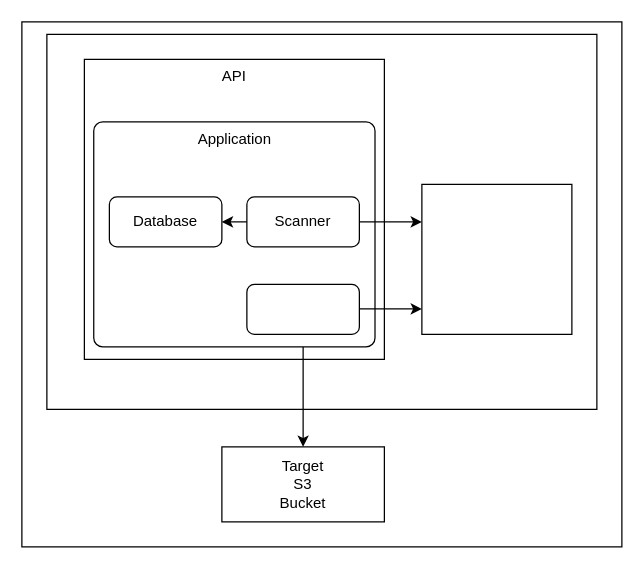
The diagram is 644 pixels wide and 569 high, and some of its shapes have lost their labels. Each missing label, with the centre of its shape:
"Source Directory" belongs at point (496, 258).
"Uploader" belongs at point (302, 308).
